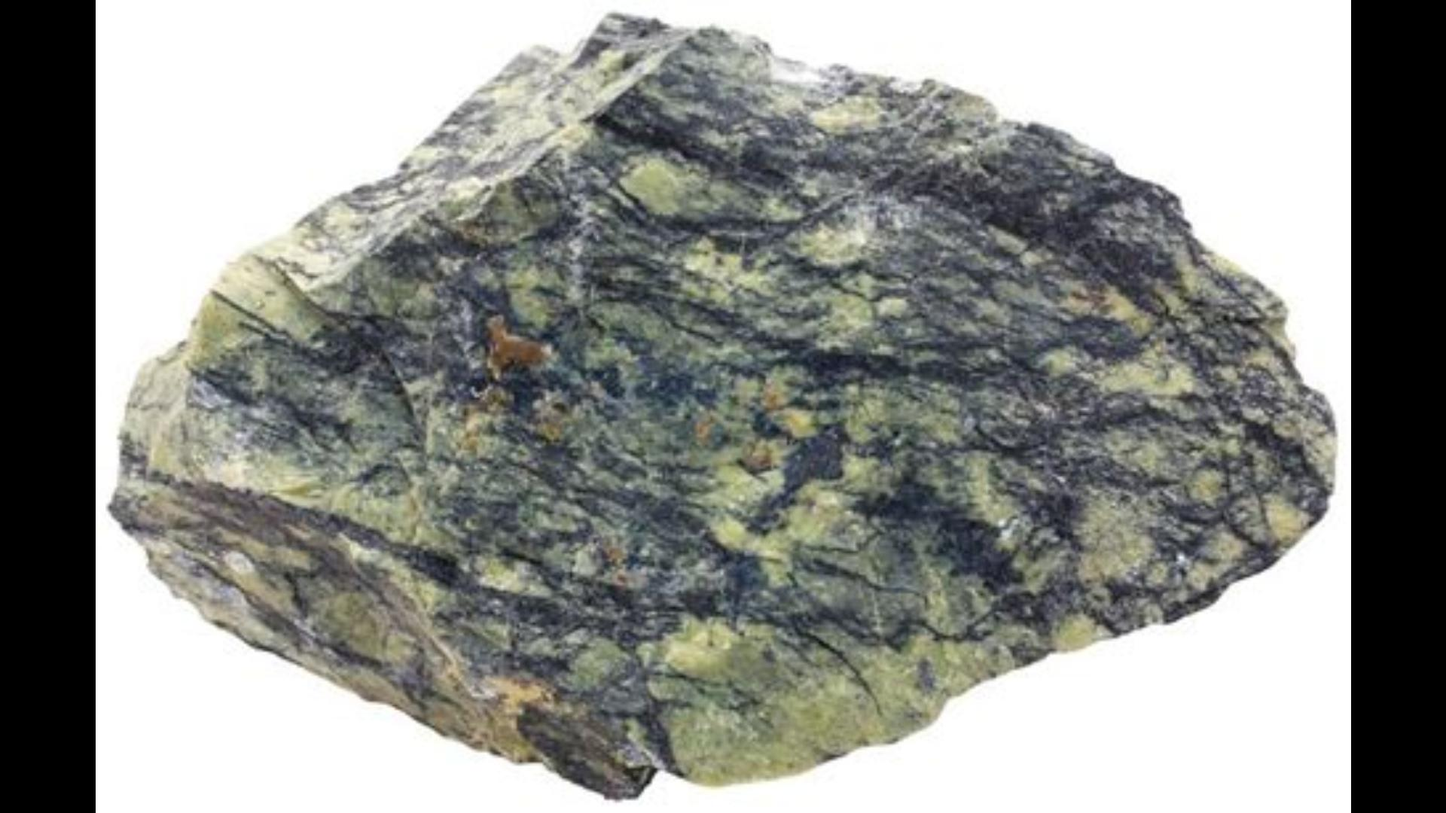rock: (111, 16, 1332, 792)
